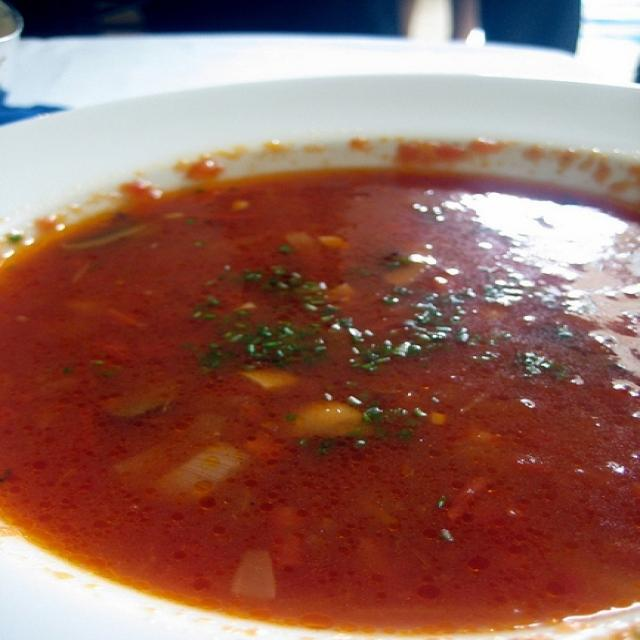汤锅炖物: (9, 56, 631, 624)
